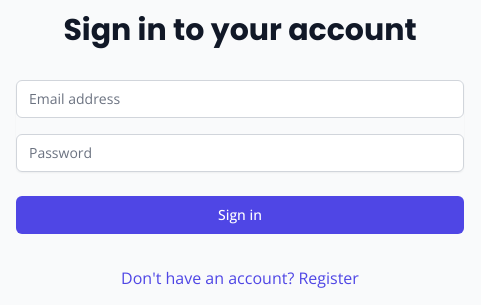
Login Component › disables submit button while loading
The width and height of the screenshot is (481, 305).
Type "test@example.com" into the field with placeholder "Email address" at (240, 99), box [16, 80, 464, 118]
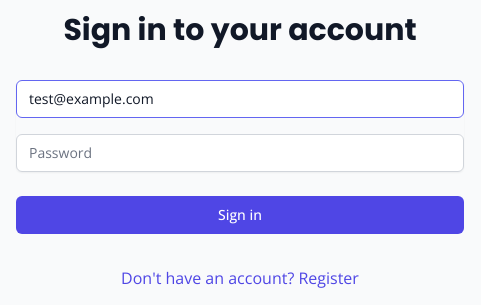
Type "password123" into the password field with placeholder "Password" at (240, 153), box [16, 134, 464, 172]
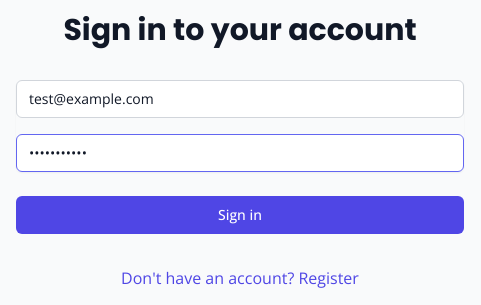
Click the button "Sign in" at (240, 215), box [16, 196, 464, 234]
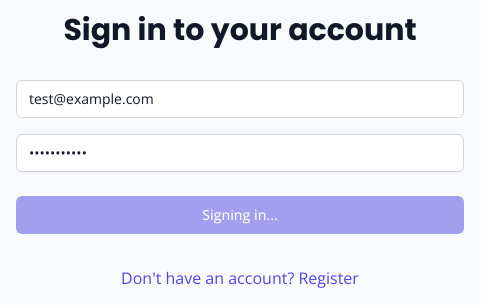
Expected: the button named "sign in" is disabled, [16, 196, 464, 234]
